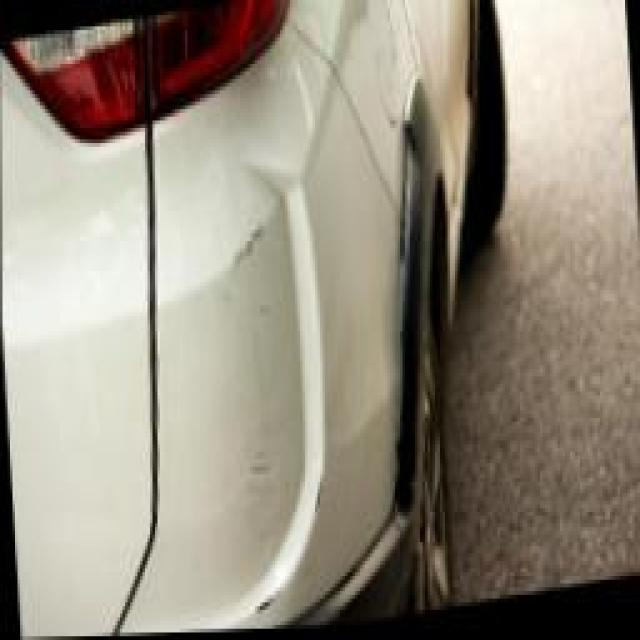Bumper: (155, 94, 412, 615)
